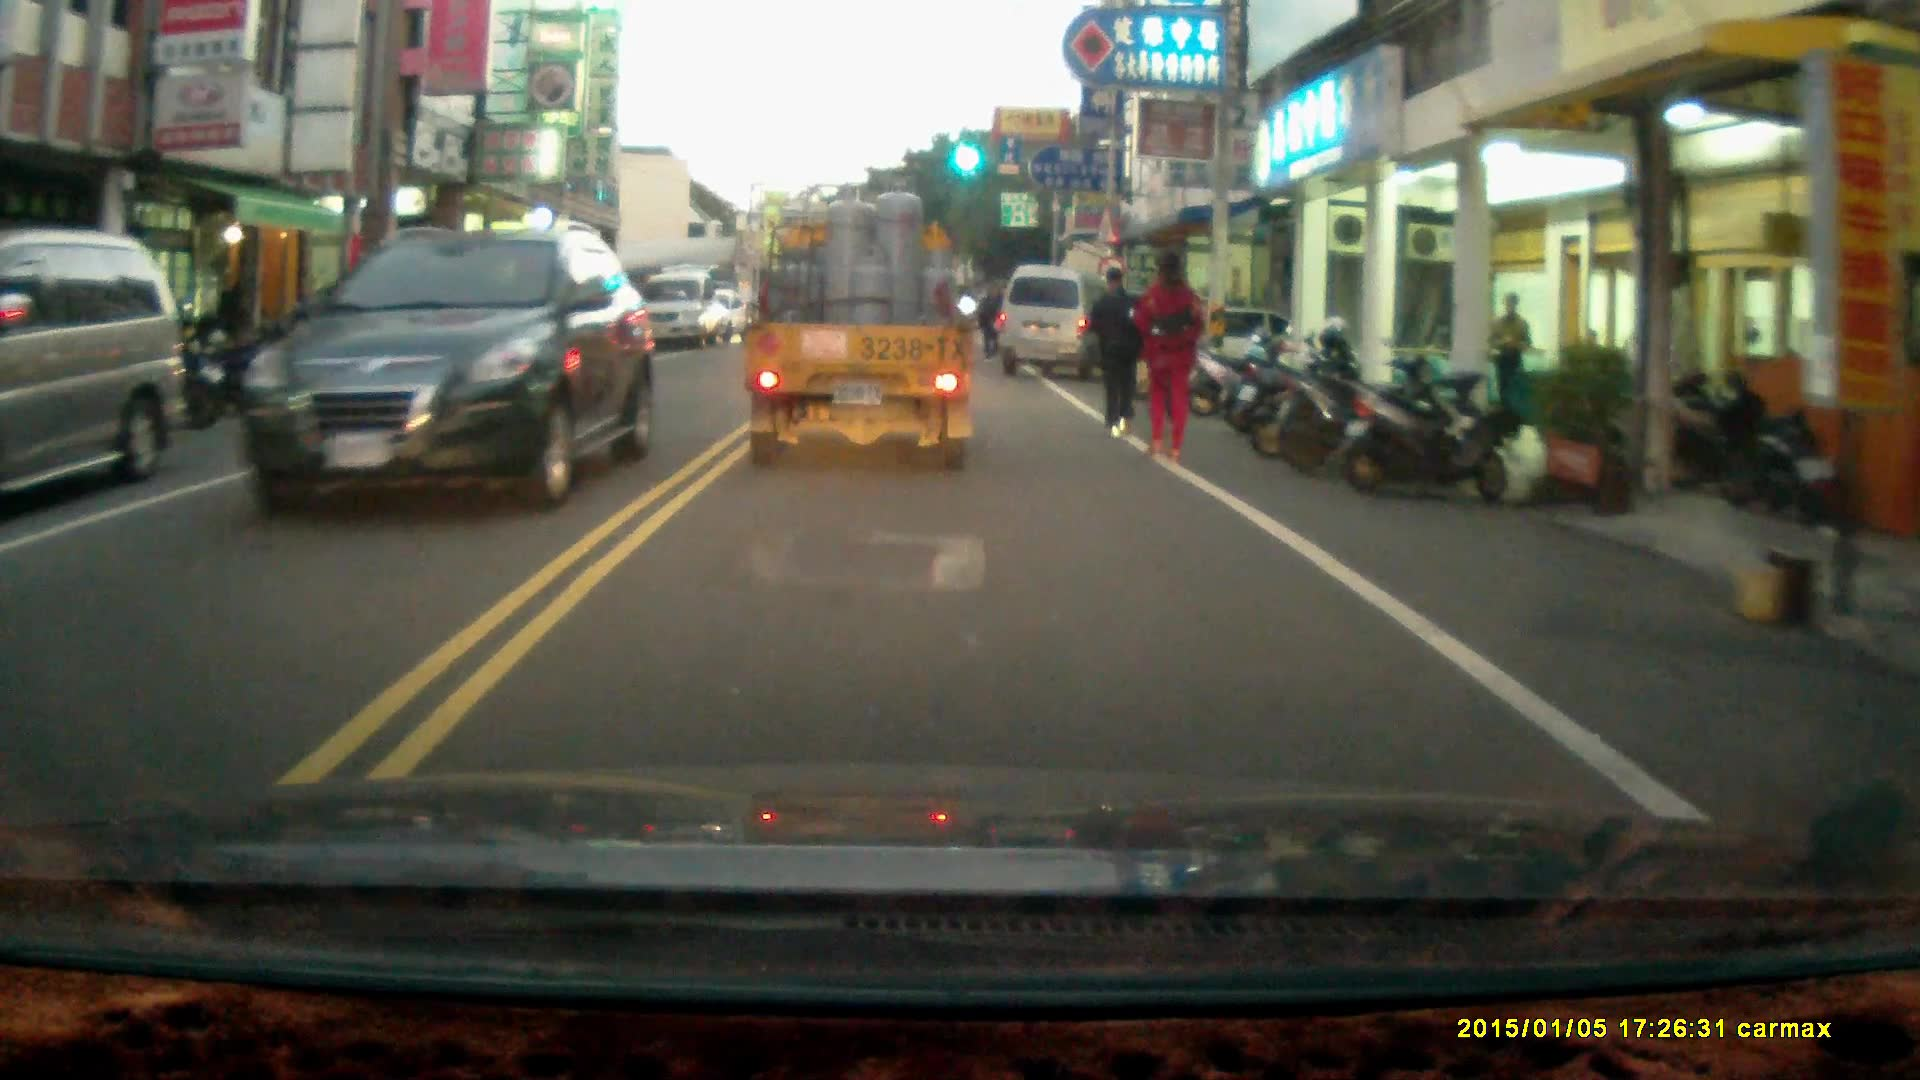pedestrian: (1137, 248, 1205, 464), (1086, 264, 1150, 440), (1486, 291, 1532, 424)
vehicle: (245, 218, 659, 520), (739, 175, 984, 479), (1, 232, 204, 502), (264, 290, 515, 390), (1001, 265, 1119, 383), (642, 265, 727, 349)
